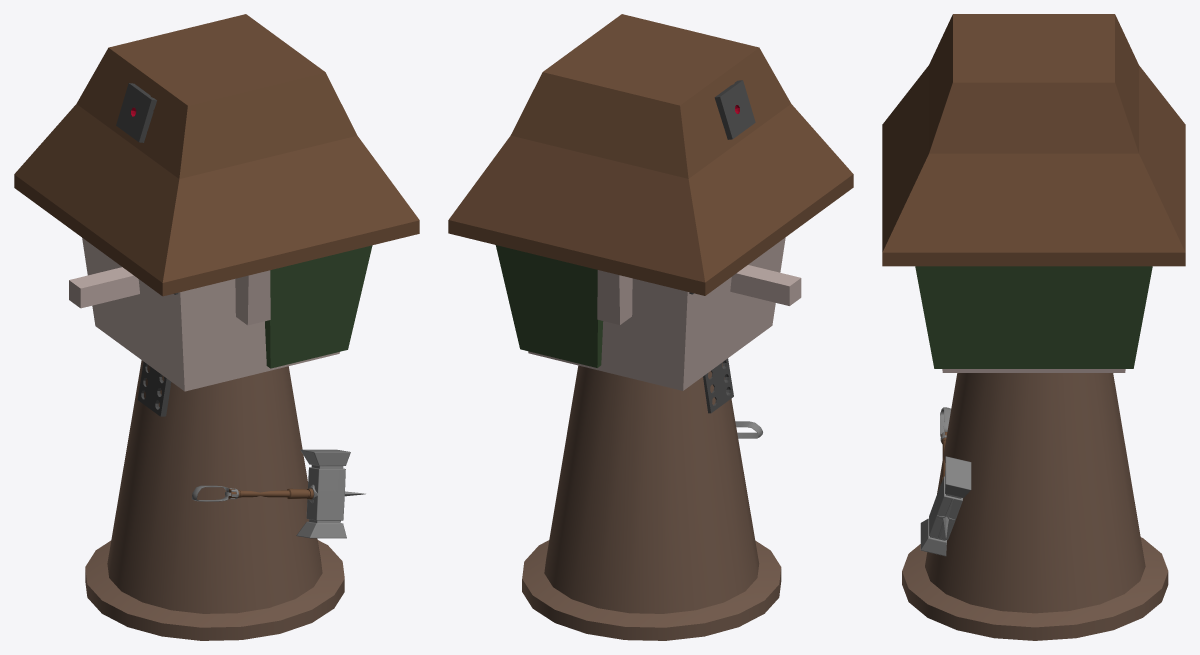
File: Player.fbx
3 views of the same model, side by side, from view 1: azimuth 30°, elevation 25°; view 2: azimuth 150°, elevation 25°; view 3: azimuth 270°, elevation 25° (orthographic). The views are drawn at different scales.
Visible parts, largest first — view 1: Player; view 2: Player; view 3: Player.
Boxes of the visible parts, x1,y1,x2,y2 form: Player: (14,14,419,640); Player: (448,14,853,640); Player: (882,14,1185,640).
Bounding box in the file's own units: 4.26 × 7.89 × 4.03.
